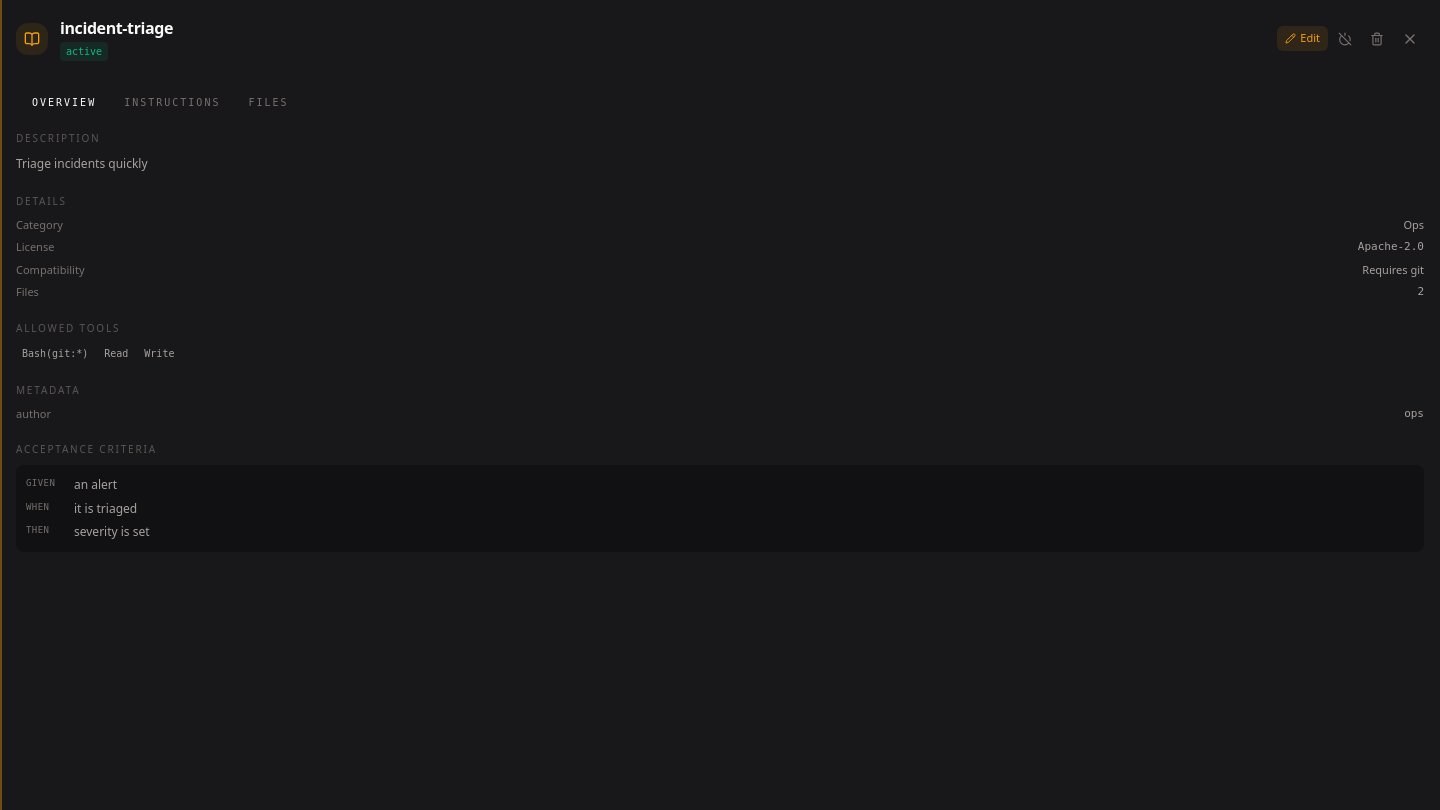
Test: SkillDetailPanel › body loading › surfaces a load failure instead of rendering an empty instructions pane
The image size is (1440, 810).
Click the tab "Instructions" at (172,102), box [112,89,232,116]
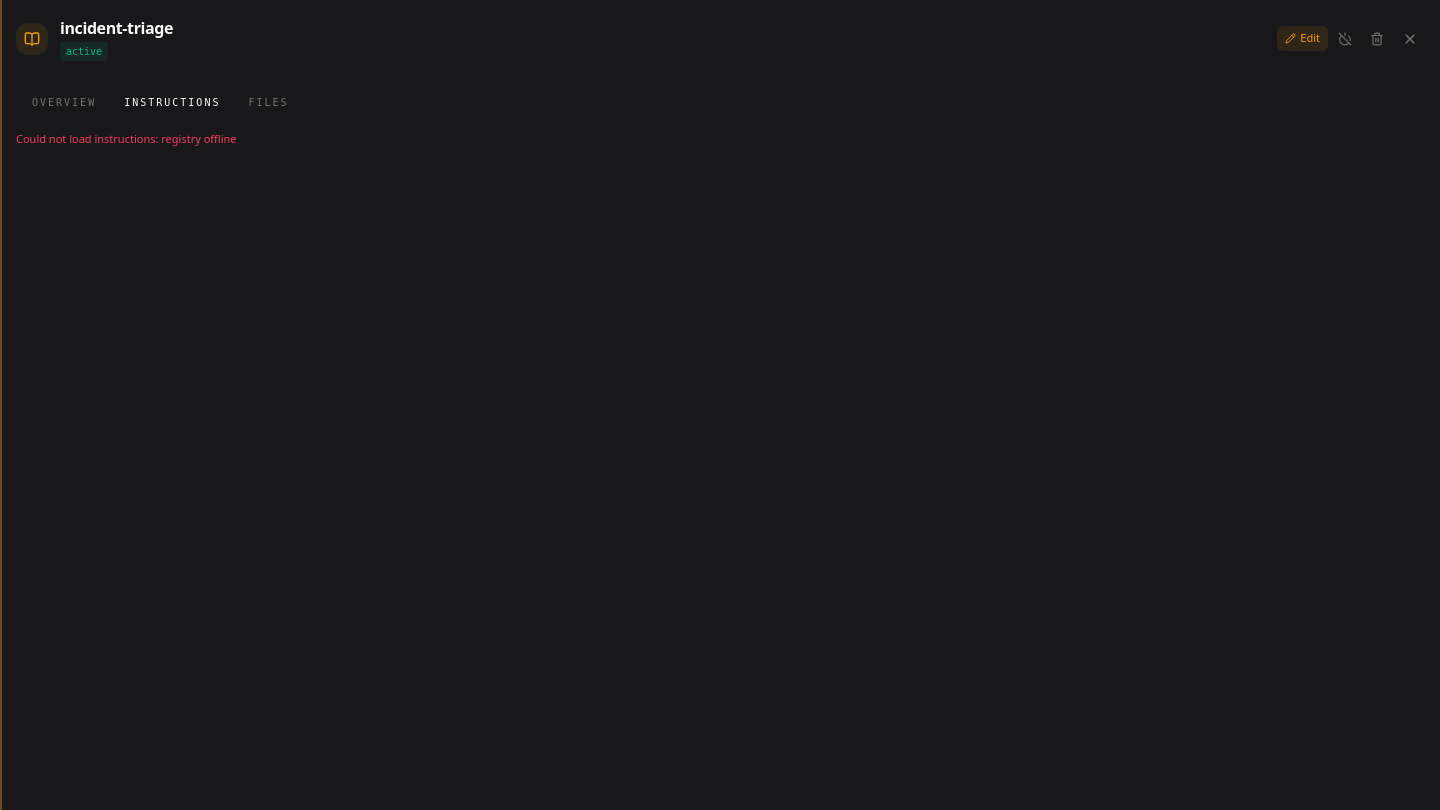
Result: the message shows "registry offline" at [161,131,237,146]
